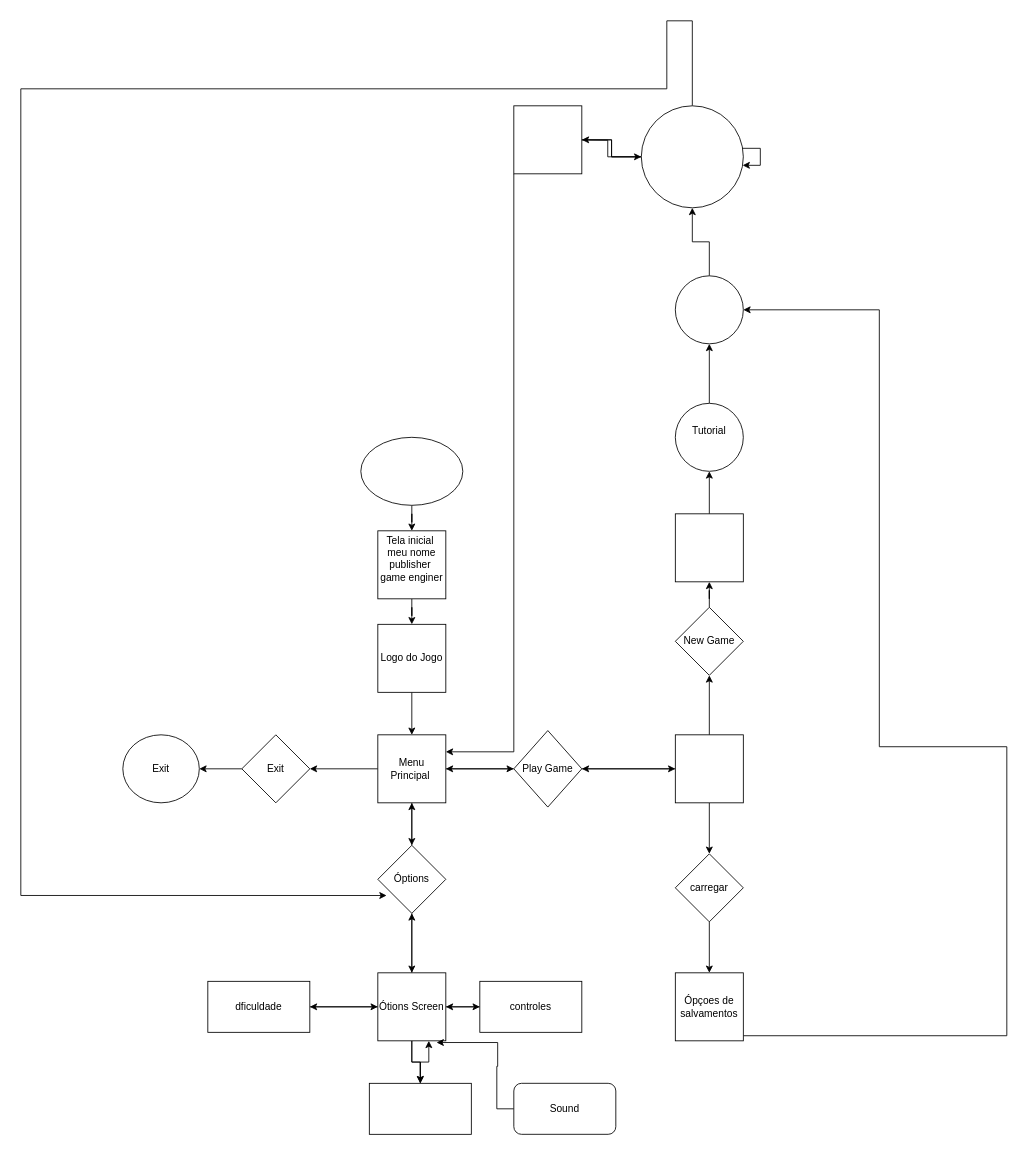
This 1029x1149 diagram has some shape labels left out. The shapes that lost their labels are listed below. From the top down, each one's box as (x1, y1, x2, y2) in pixels, then its label:
(513, 105, 582, 174): voltar ao menu inicial
(640, 105, 743, 208): Pause
(674, 275, 743, 344): Game
(360, 436, 463, 505): Start
(674, 513, 743, 582): introdução
(674, 734, 743, 803): Start Screen
(368, 1082, 471, 1134): linguagem
